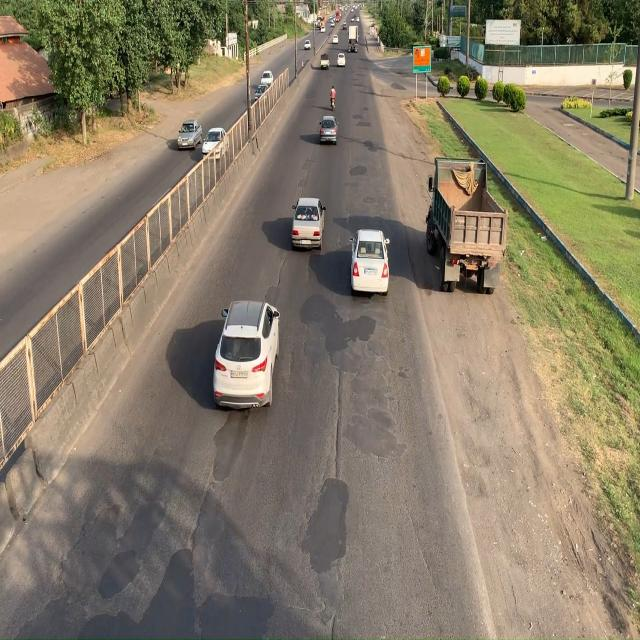Truck: (425, 153, 510, 297)
cars: (213, 295, 281, 414), (350, 229, 390, 302), (290, 190, 329, 254), (201, 125, 232, 162), (178, 115, 202, 148), (319, 114, 339, 151)
